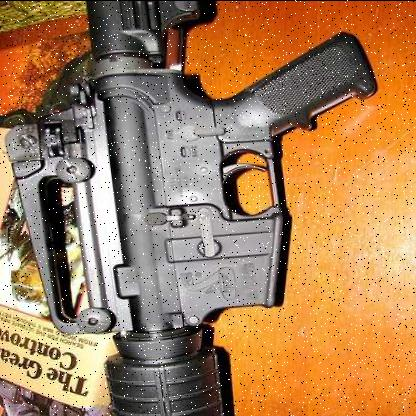rifle: (8, 10, 367, 416)
